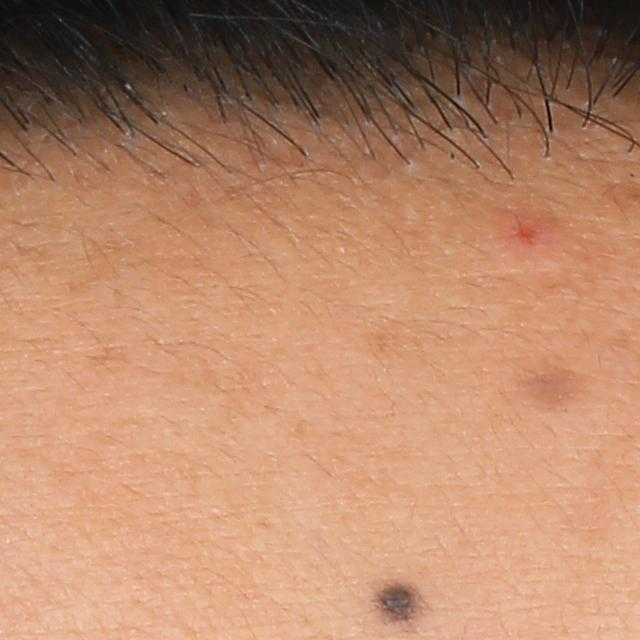nevus: (372, 580, 433, 628)
